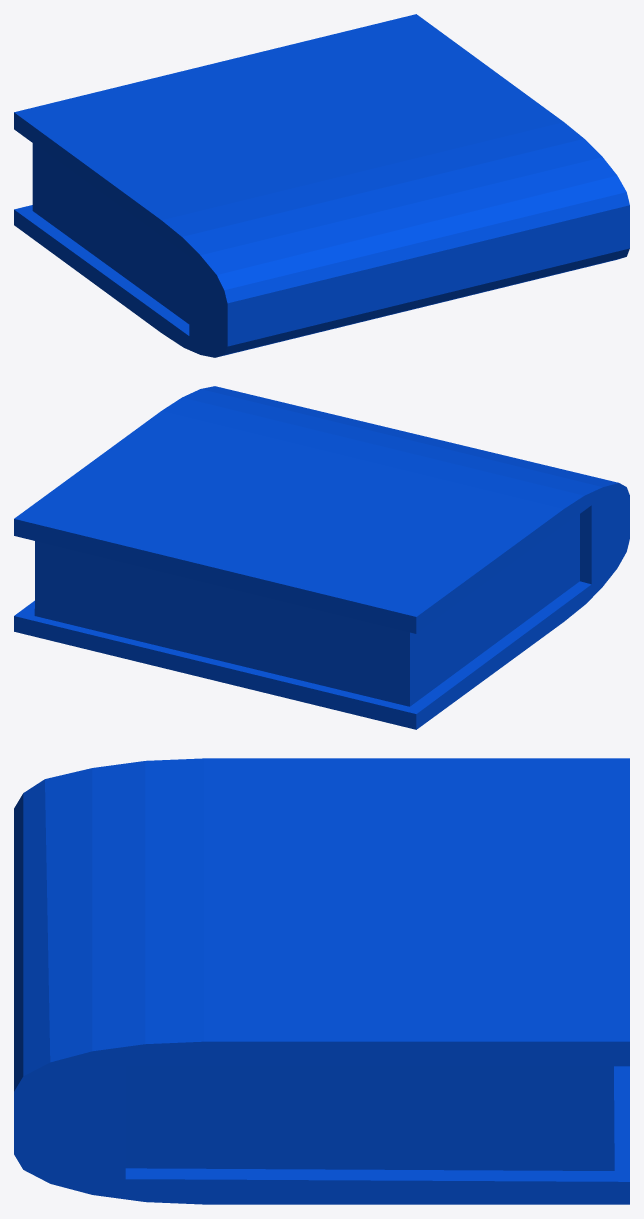
File: book.fbx
3 renders of one model, top to bottom at view 1: azimuth 30°, elevation 25°; view 2: azimuth 150°, elevation 25°; view 3: azimuth 270°, elevation 25°, orthographic. The views are drawn at different scales.
Visible parts, largest first — view 1: Cube; view 2: Cube; view 3: Cube.
Boxes of the visible parts, x1=… form: Cube: x1=14, y1=14, x2=629, y2=357; Cube: x1=14, y1=386, x2=629, y2=729; Cube: x1=14, y1=758, x2=629, y2=1204.
Size of the model in its own units: 746 by 200 by 686.
